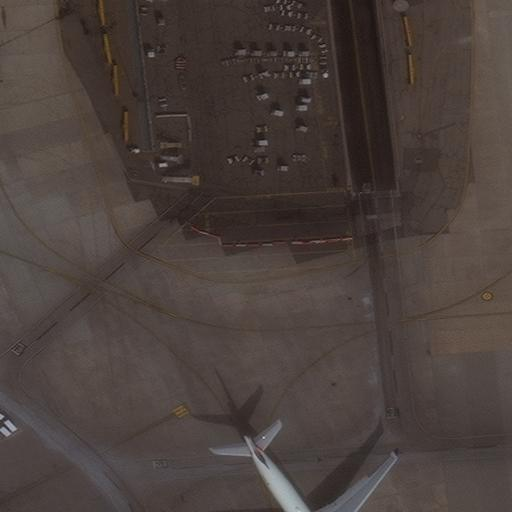Large Civil Transport: (202, 434, 399, 512)
